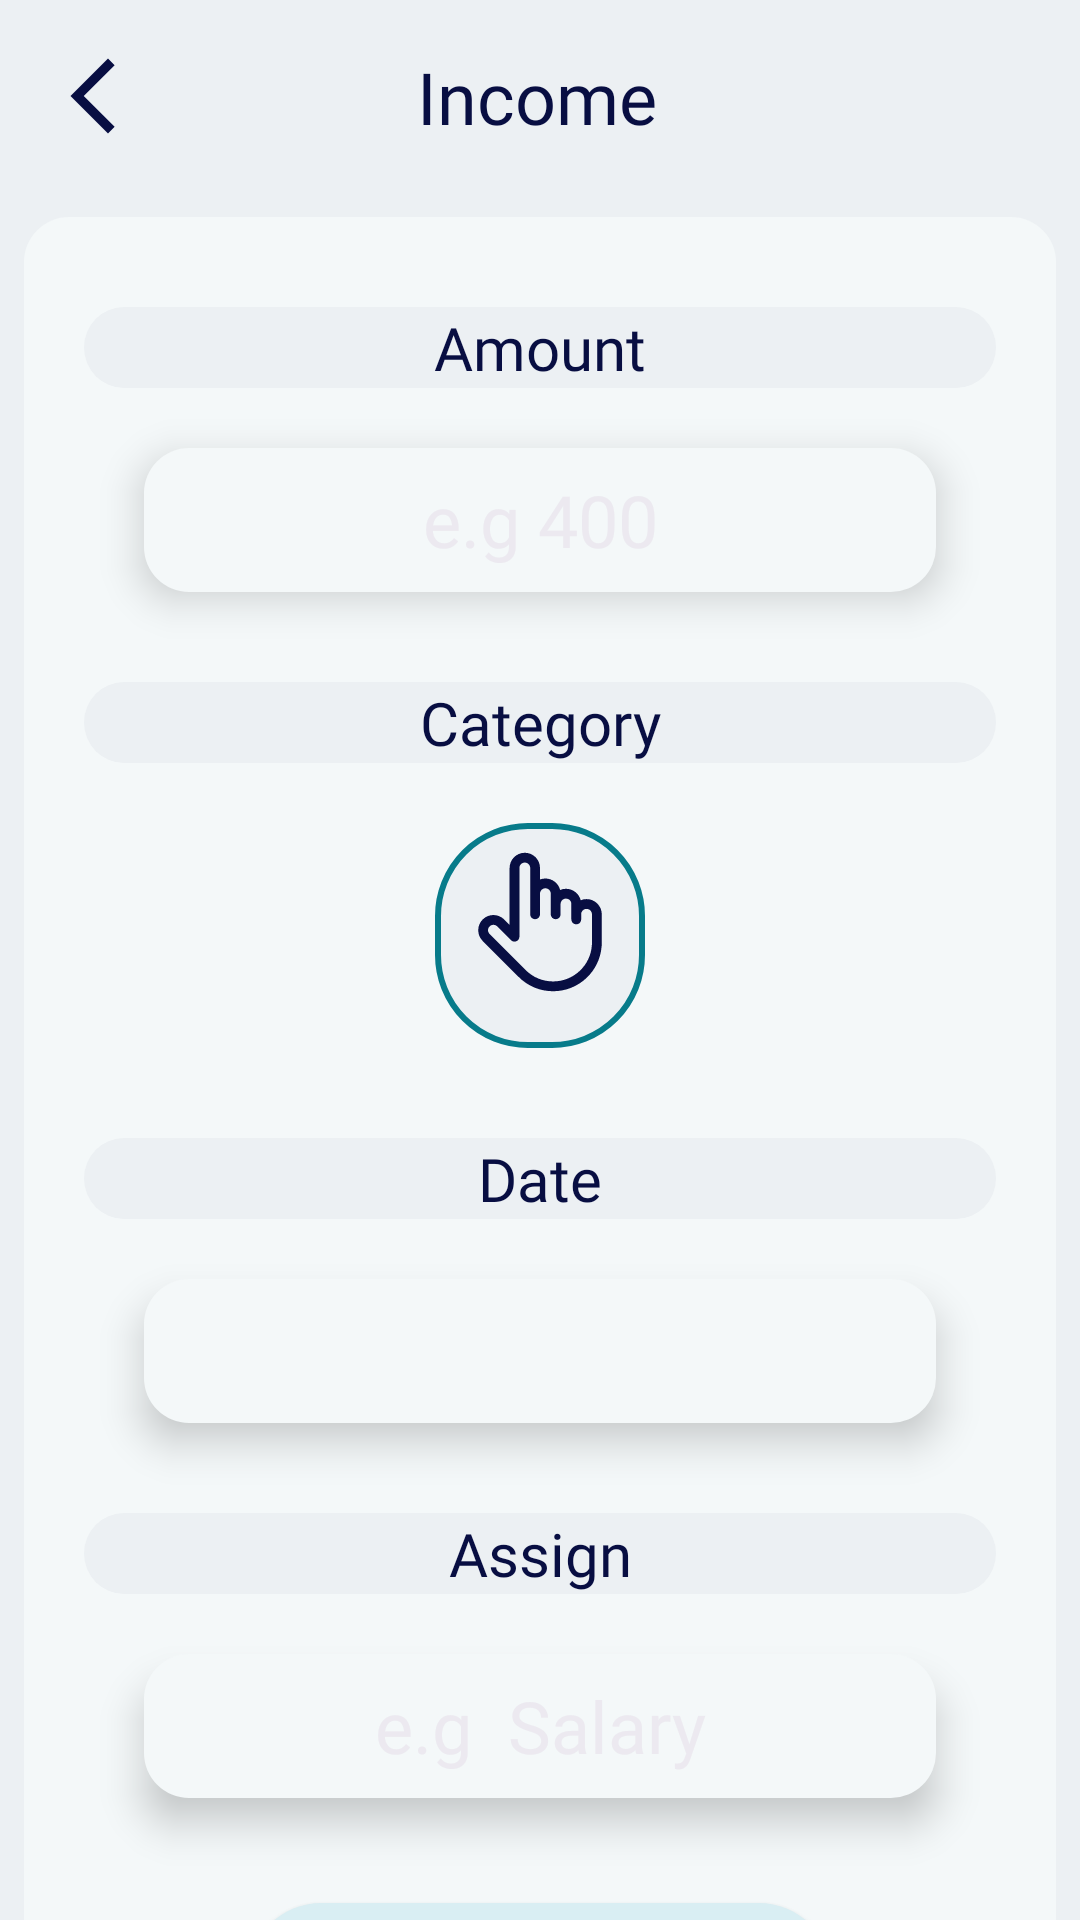

Icon click points for this 1080x1920 phone screenshot, format (x,y):
back: (92,96)
select: (540,935)
